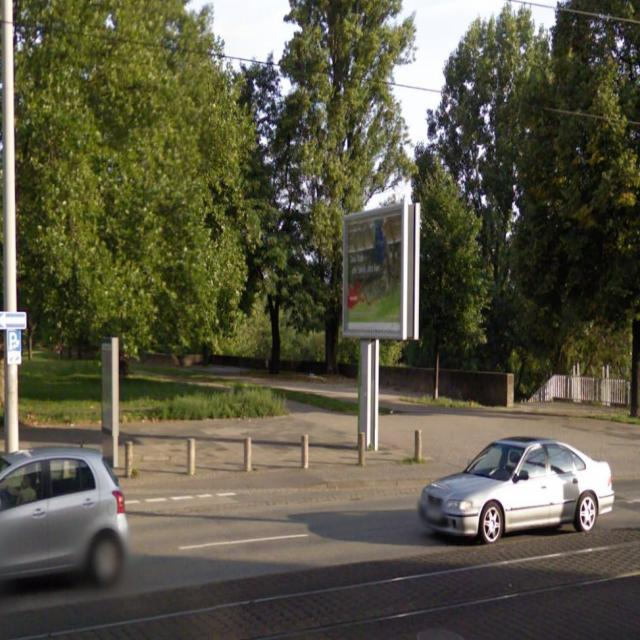Werbetafel frei: (340, 199, 408, 345)
